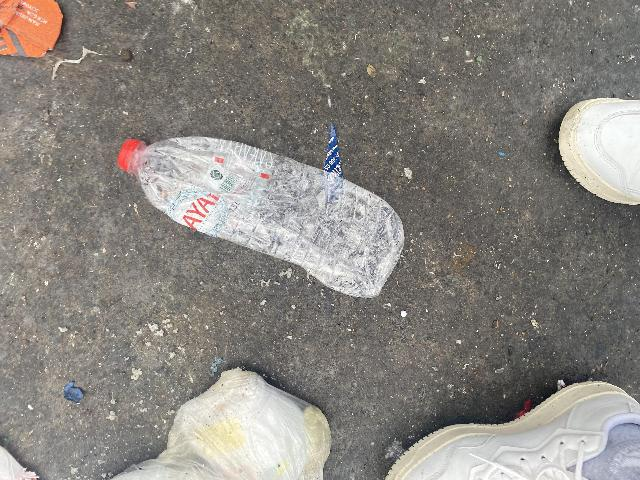Kagit: (0, 0, 62, 67)
Plastik: (116, 133, 408, 302)
